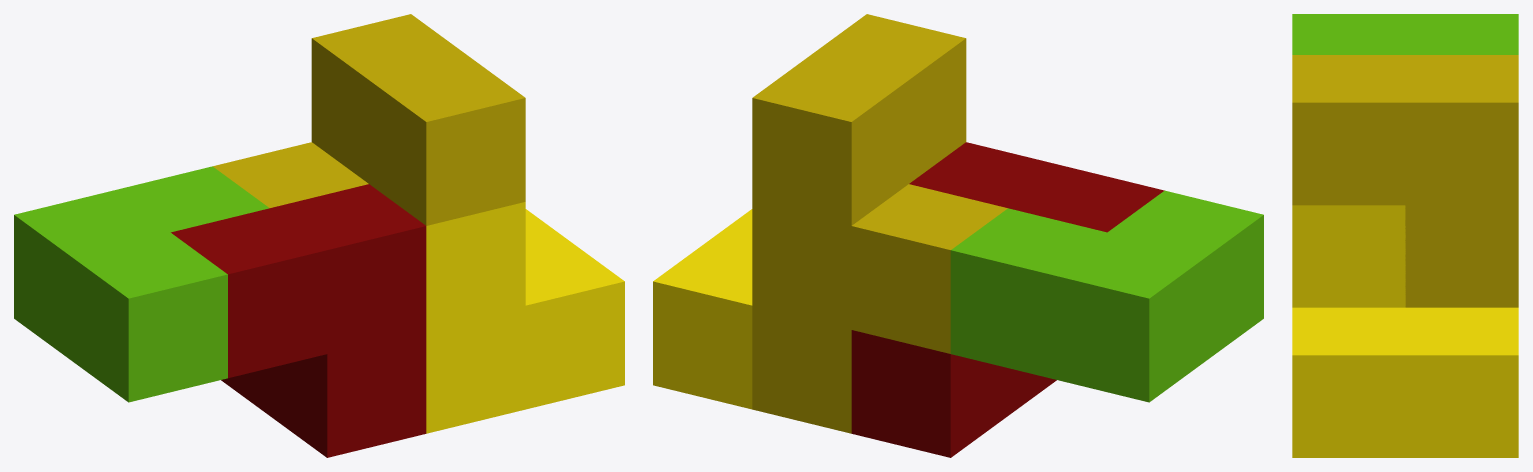
The picture shows the model from 3 angles, left to right: view 1: azimuth 30°, elevation 25°; view 2: azimuth 150°, elevation 25°; view 3: azimuth 270°, elevation 25°; orthographic projection.
Visible parts, largest first — view 1: mergedBlocks(Clone); view 2: mergedBlocks(Clone); view 3: mergedBlocks(Clone).
Part boxes in pixels (x1,y1,x2,y2): mergedBlocks(Clone): [14, 14, 624, 457]; mergedBlocks(Clone): [653, 14, 1263, 457]; mergedBlocks(Clone): [1292, 14, 1518, 457].
Bounding box in the file's own units: 5 × 3 × 2.
4 materials, 4 textured.
